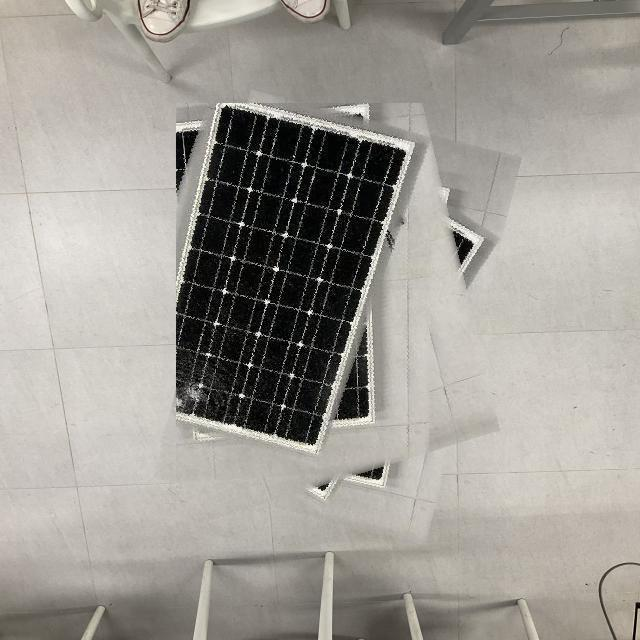Photovoltaic-Panel: (176, 103, 500, 531)
